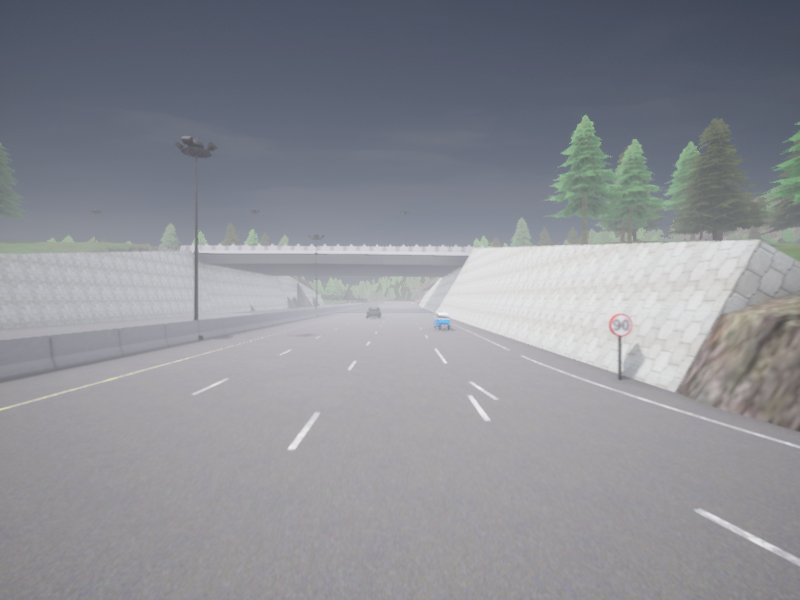vehicle: (433, 313, 450, 329), (367, 307, 381, 317)
